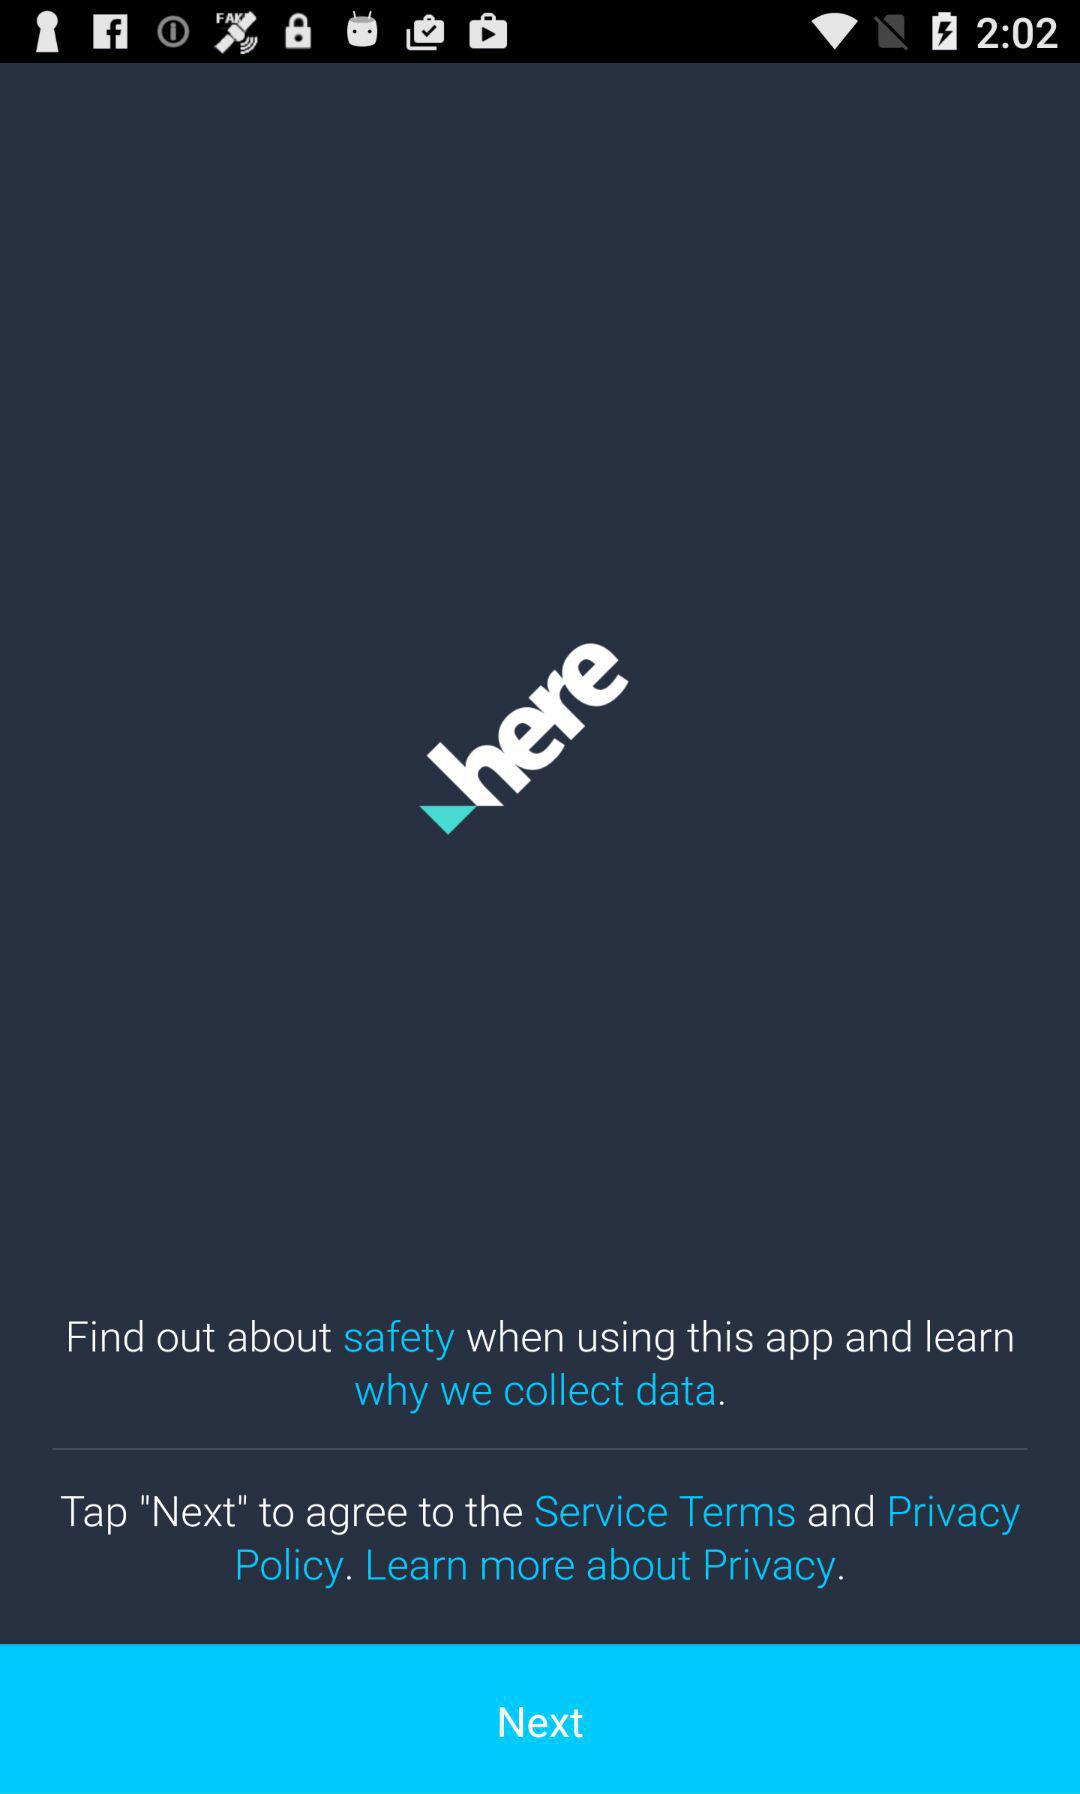Image: (416, 642, 632, 838)
Text: (60, 1493, 1022, 1592), (68, 1319, 1013, 1417)
TextButton: (1, 1645, 1080, 1794)
UpperTaskBar: (1, 1, 1080, 64)
